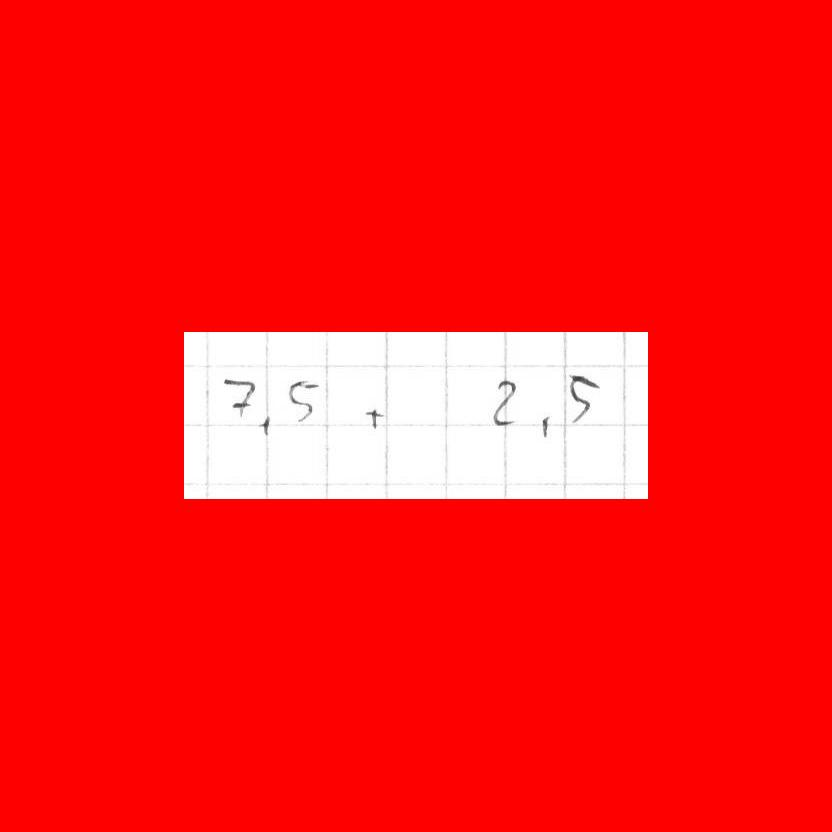Char: (285, 376, 325, 430), (567, 372, 601, 426), (221, 374, 257, 420), (490, 377, 518, 430), (362, 405, 385, 430), (257, 410, 275, 436), (540, 412, 553, 438)
